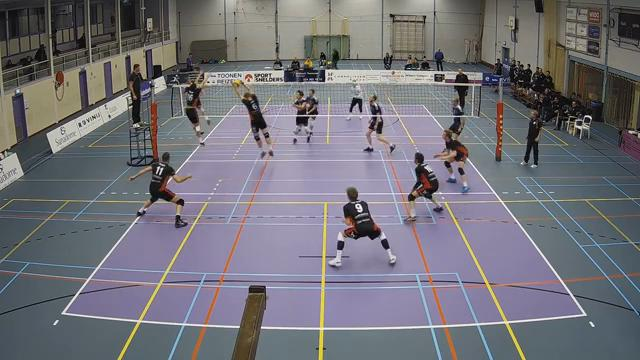attacco: (193, 84, 214, 126)
muro: (228, 76, 276, 158), (177, 72, 210, 147)
